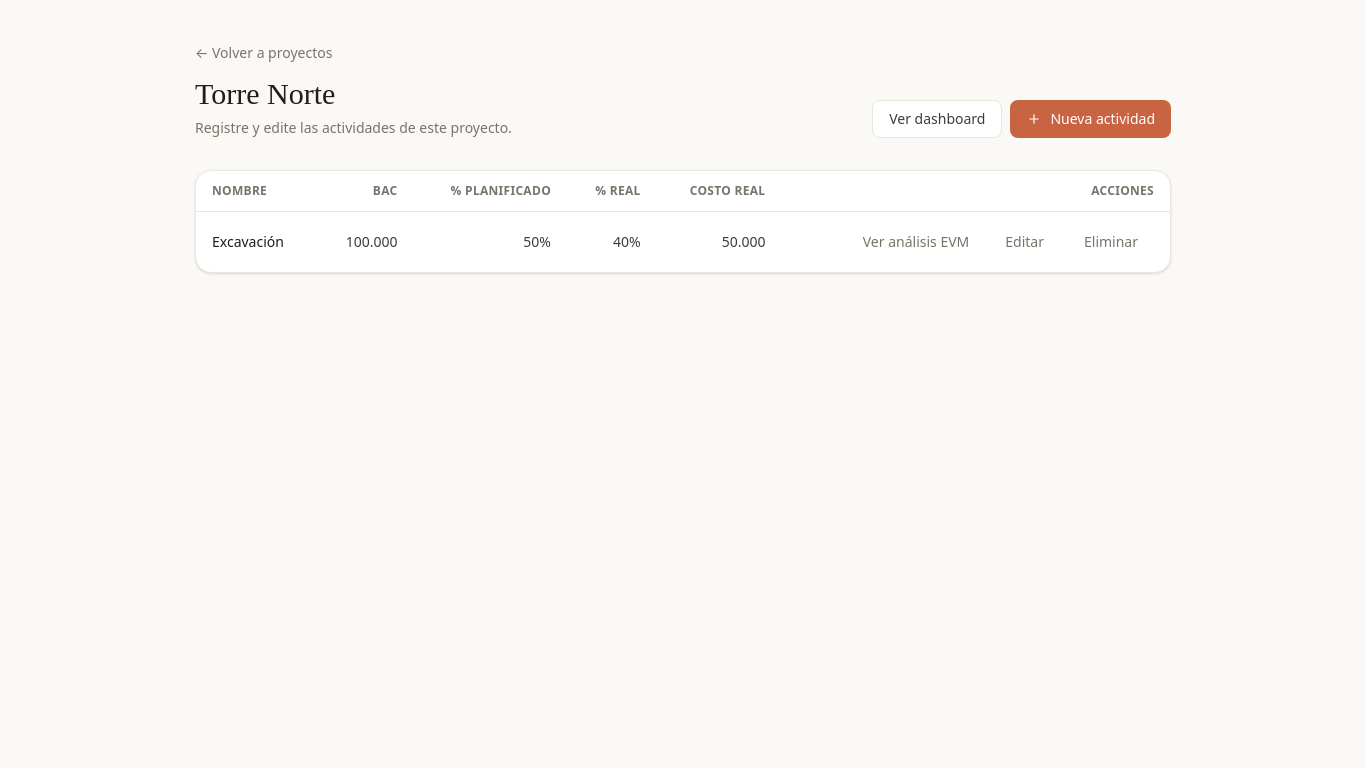
Test: ActividadesListado › deletes an activity after confirming in the dialog and refreshes the list
Expected: the text "Excavación" is shown, [196,212,316,272]
Click the button "Eliminar" at (1111, 242), box [1068,224,1154,260]
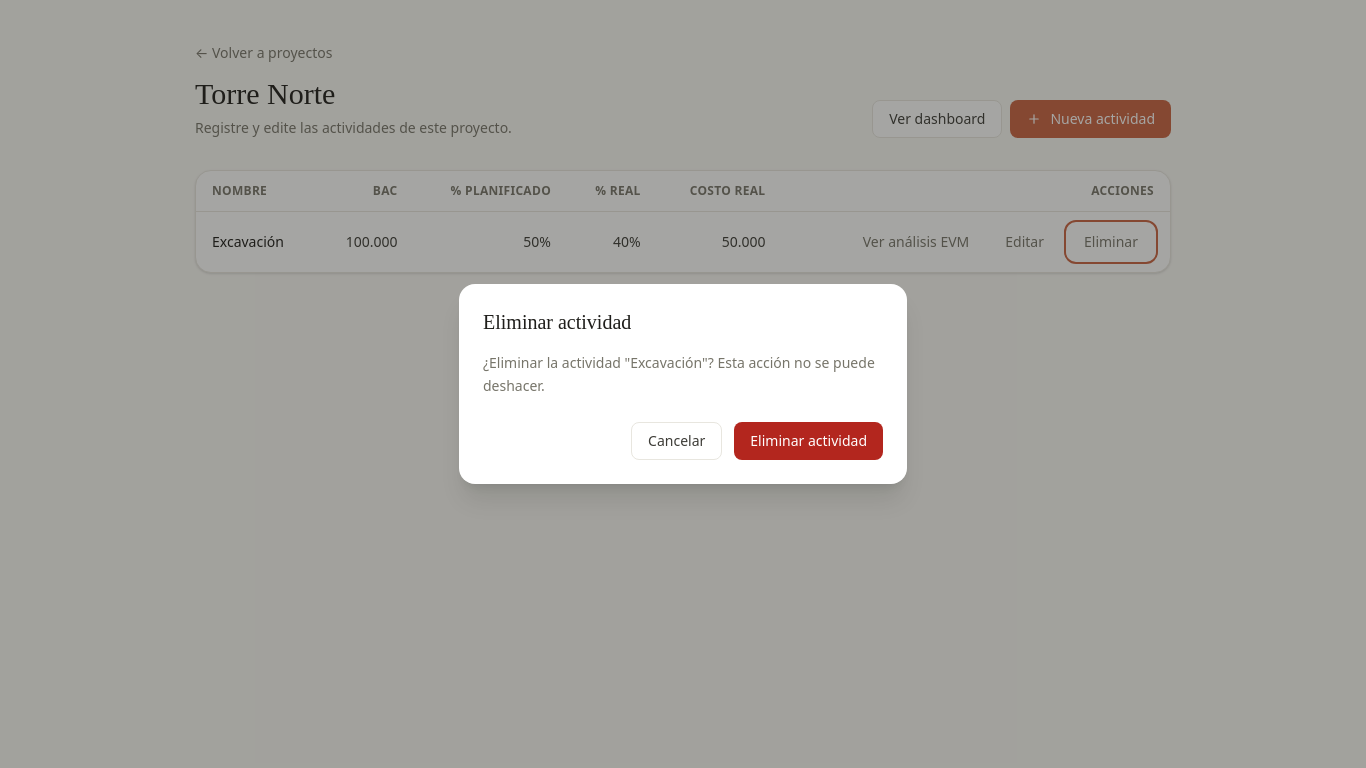
Expected: the dialog is shown, [459,284,907,484]
Click the button "Eliminar actividad" at (809, 441), box [734,422,883,460]
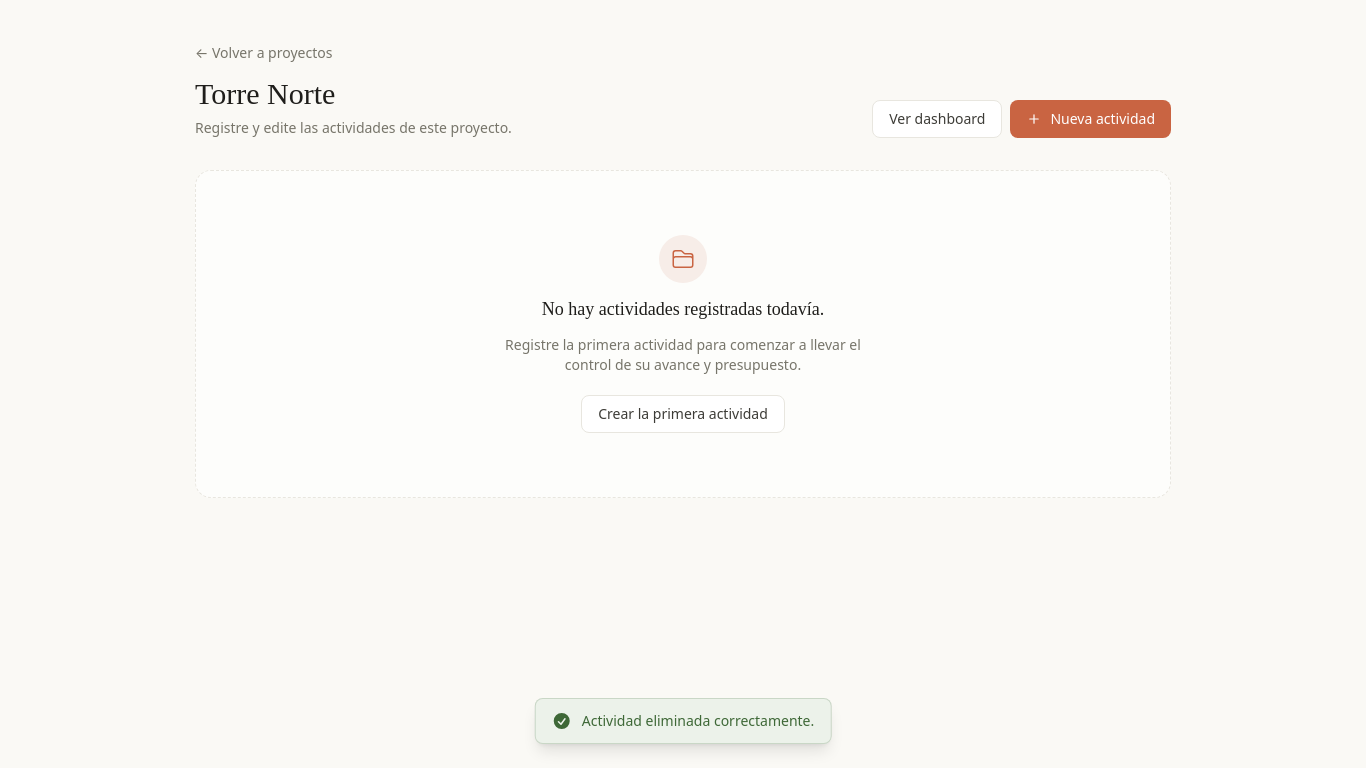
Expected: the text "No hay actividades registradas todavía." is shown, [542,295,824,323]
Expected: the text "Actividad eliminada correctamente." is shown, [535,698,831,744]
